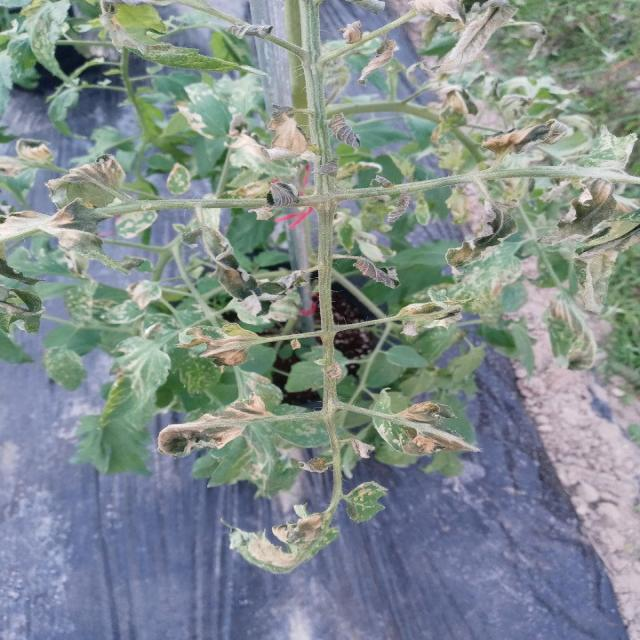Healthy Leaf: (101, 14, 249, 76), (158, 396, 273, 460), (53, 199, 145, 275), (373, 390, 477, 456), (576, 209, 640, 313), (232, 515, 337, 575), (538, 179, 619, 247), (203, 230, 263, 317), (447, 201, 518, 274), (440, 7, 518, 71), (47, 156, 128, 210), (180, 324, 265, 368), (268, 103, 320, 165), (483, 119, 569, 156), (400, 299, 478, 337), (581, 125, 639, 169), (346, 483, 390, 525)
